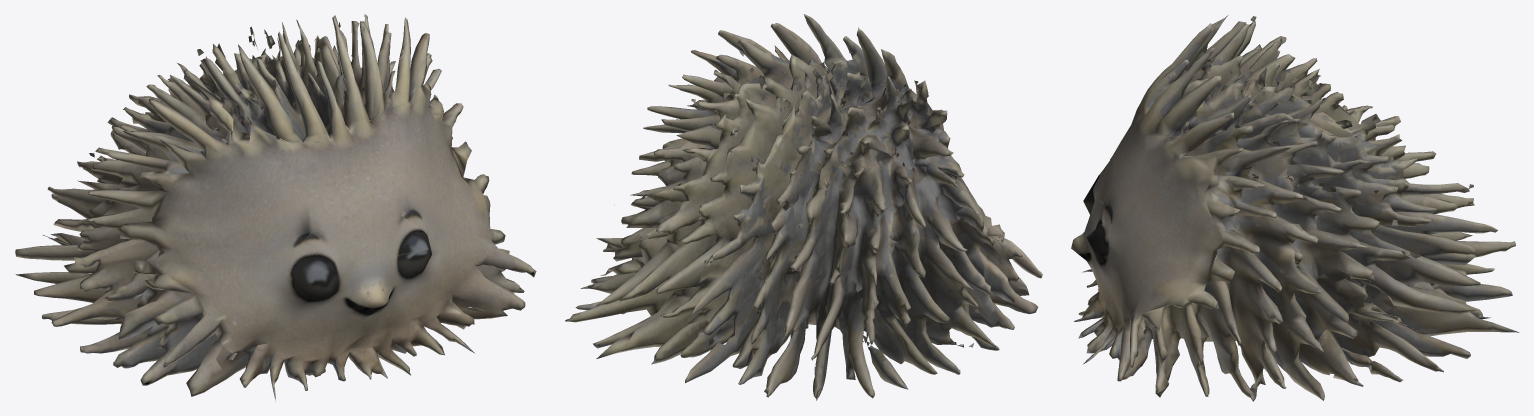
The model's file is ferro_model.glb.
3 views of the same model, side by side, from view 1: azimuth 30°, elevation 25°; view 2: azimuth 150°, elevation 25°; view 3: azimuth 270°, elevation 25° (orthographic). The views are drawn at different scales.
Bounding box in the file's own units: 1.93 × 1.33 × 1.88.
1 material, 1 textured.
